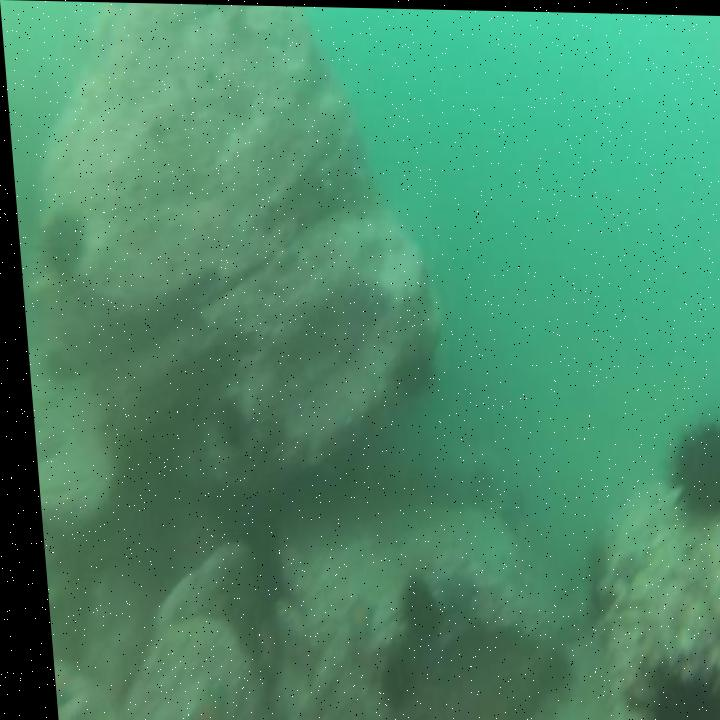echinus: (620, 641, 720, 720), (655, 405, 720, 521), (32, 205, 85, 284), (387, 566, 434, 643), (203, 389, 246, 457), (384, 348, 432, 406), (365, 654, 400, 715), (527, 638, 568, 690)
starfish: (329, 588, 368, 649), (600, 545, 641, 587)
